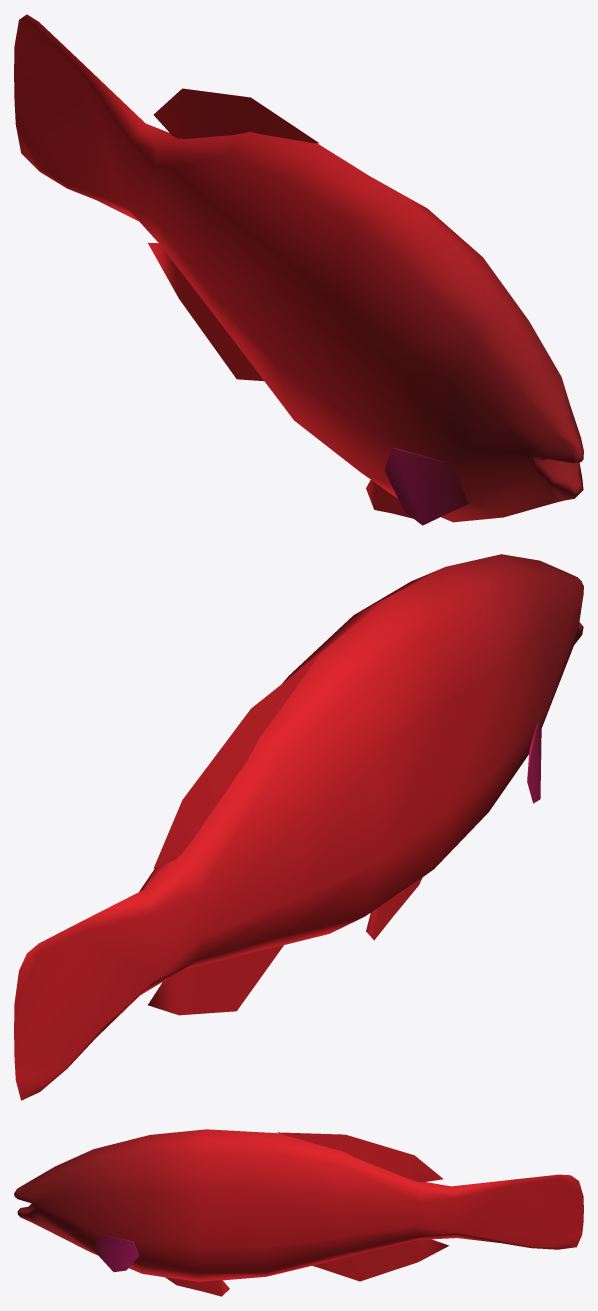
The picture shows the model from 3 angles, top to bottom: view 1: azimuth 30°, elevation 25°; view 2: azimuth 150°, elevation 25°; view 3: azimuth 270°, elevation 25°; orthographic projection. The views are drawn at different scales.
Visible parts, largest first — view 1: Mackerel; view 2: Mackerel; view 3: Mackerel.
Part boxes in pixels (x1=…): Mackerel: x1=14, y1=14, x2=583, y2=525; Mackerel: x1=14, y1=554, x2=583, y2=1100; Mackerel: x1=14, y1=1129, x2=583, y2=1296.
Size of the model in its own units: 0.0453 by 0.1009 by 0.3114.
